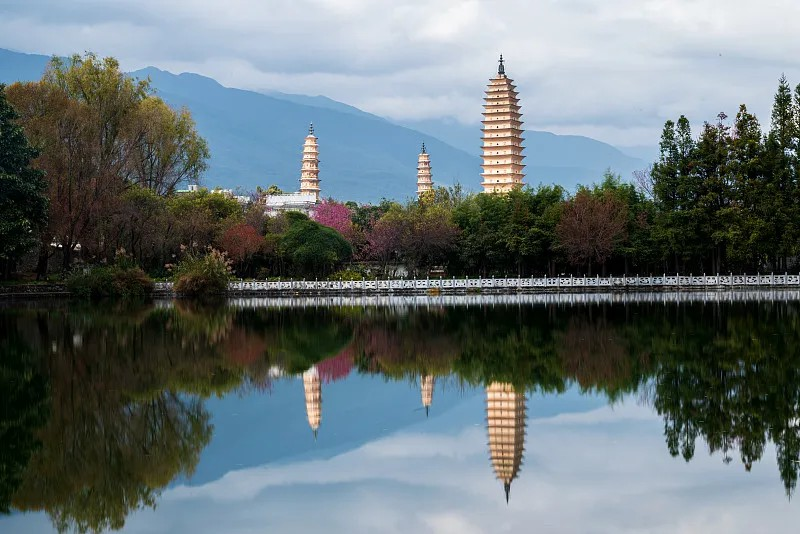ThreePagoda: (480, 54, 527, 198)
